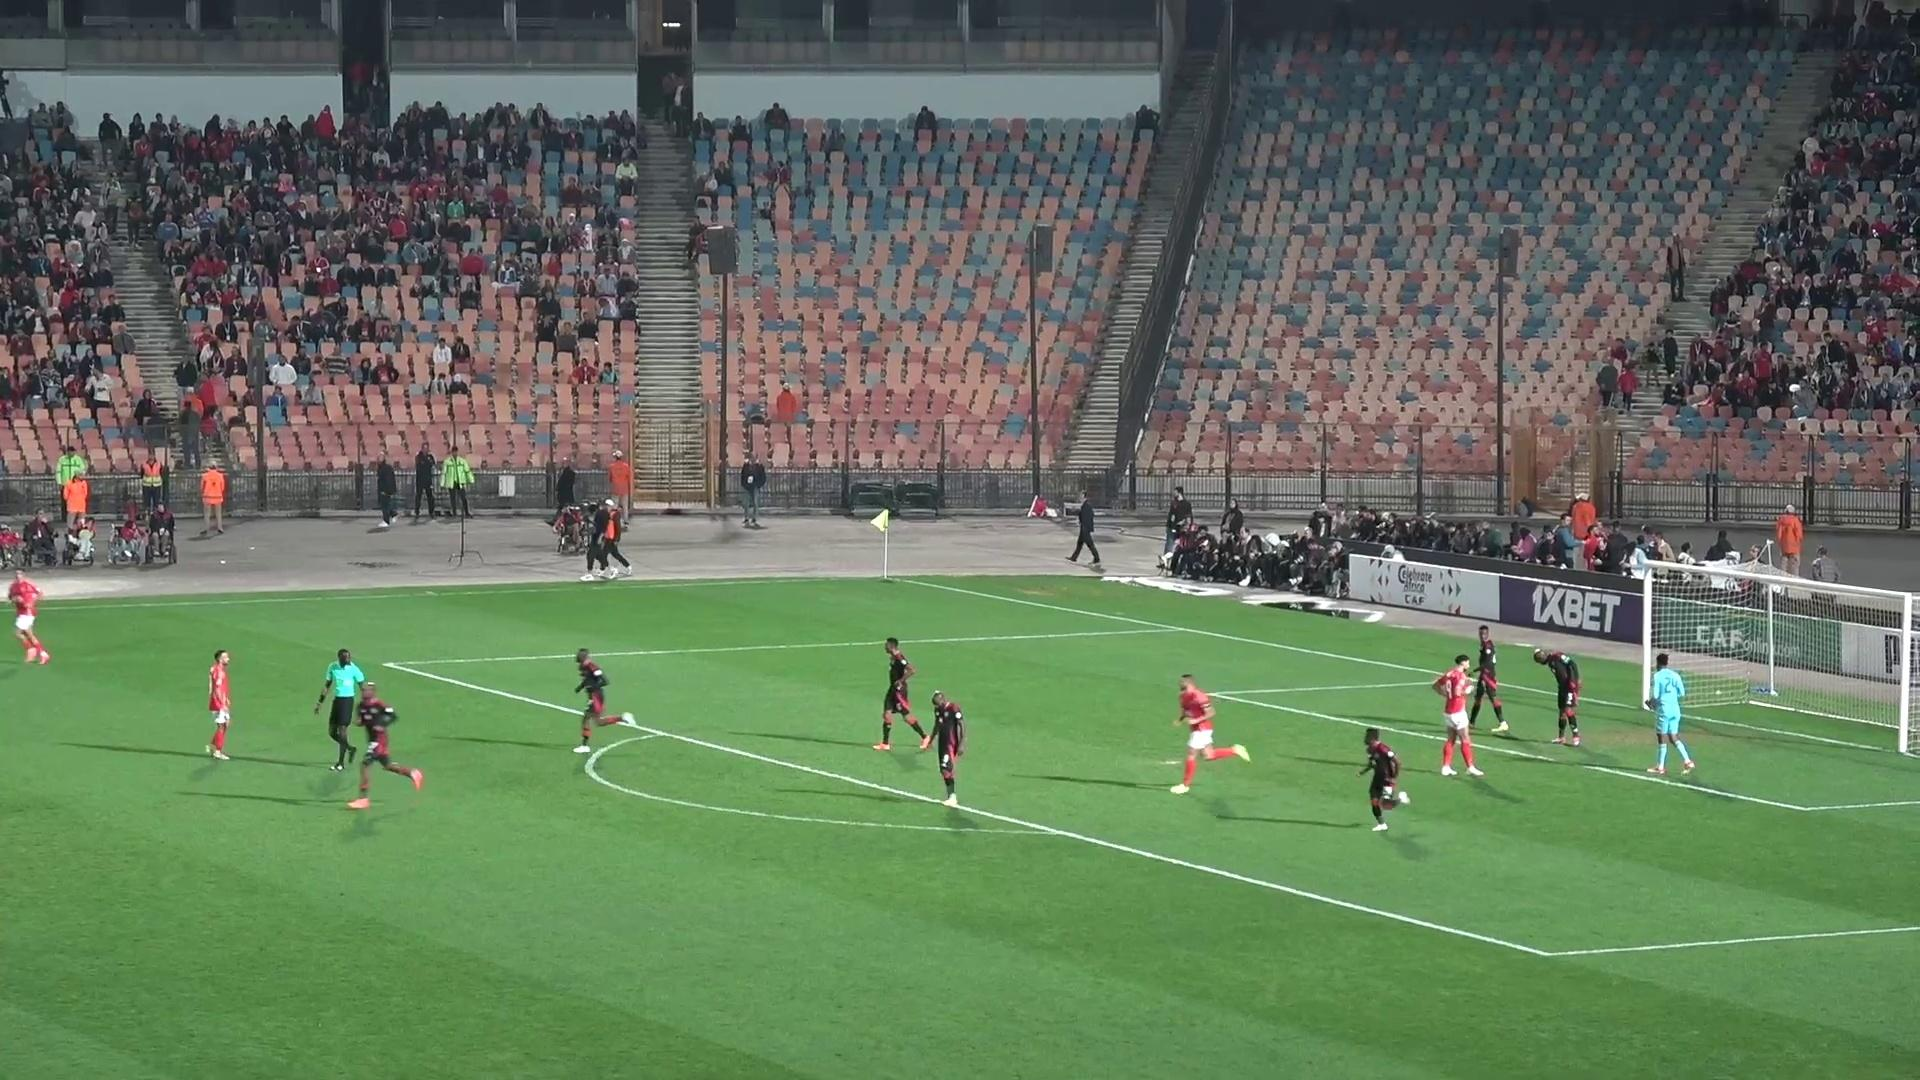GK2: (1643, 651, 1696, 777)
Refree: (316, 650, 367, 771)
Team1: (1170, 675, 1249, 794), (1433, 655, 1482, 775), (7, 570, 51, 663), (206, 649, 231, 760)
Team2: (348, 683, 423, 808), (574, 647, 636, 753), (873, 638, 927, 748), (923, 691, 967, 807), (1361, 727, 1408, 832), (1532, 647, 1581, 745), (1469, 625, 1510, 737)
